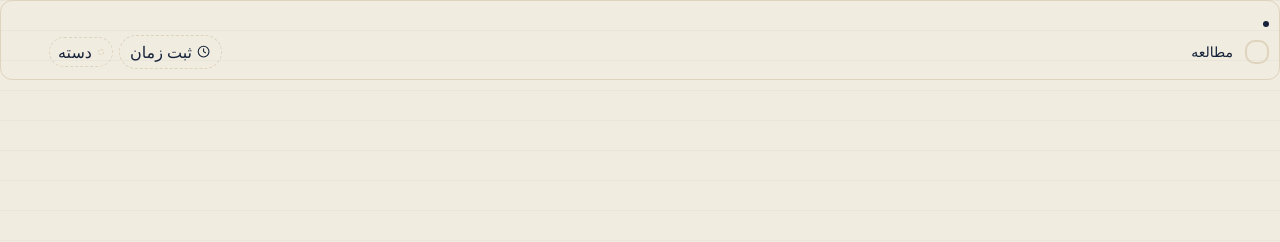
<EntryRow> › closes the field on Escape without recording anything
The image size is (1280, 242).
Step 1. Click the button "ثبت زمان" → [171, 52], box [119,35,222,69]
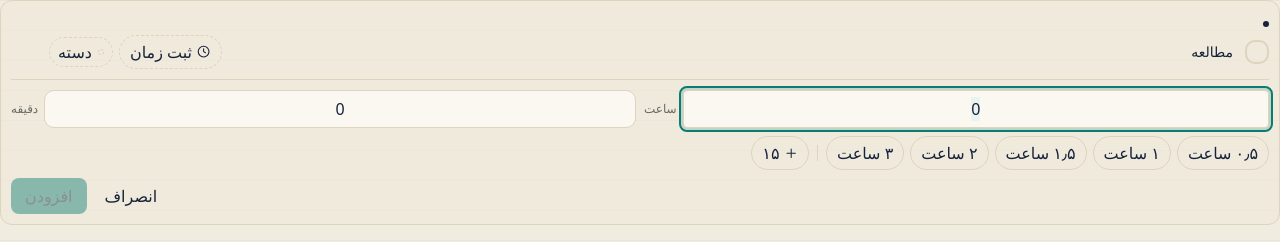
Step 2. Press Escape in the field labelled "ساعت", box [683,90,1269,128]
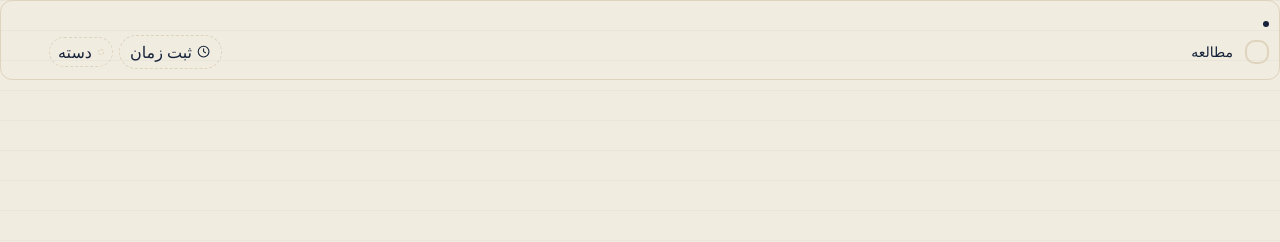
Check: the text labelled "ساعت" is gone
